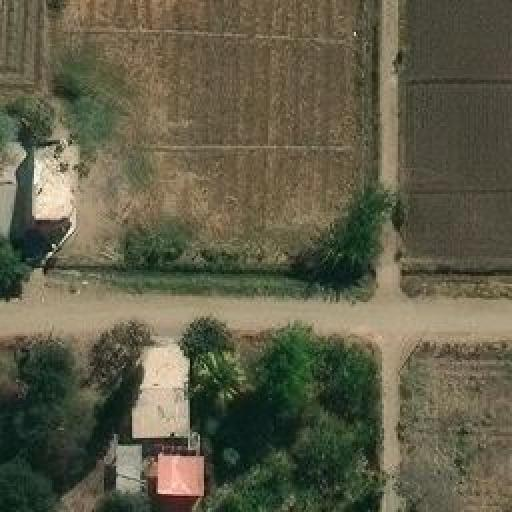manzanas: (108, 332, 201, 510), (0, 129, 83, 268)
